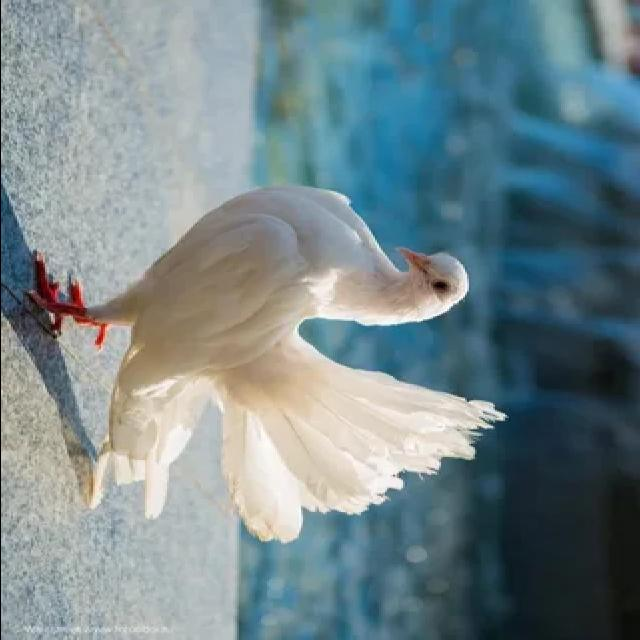pigeon: (23, 177, 509, 546)
